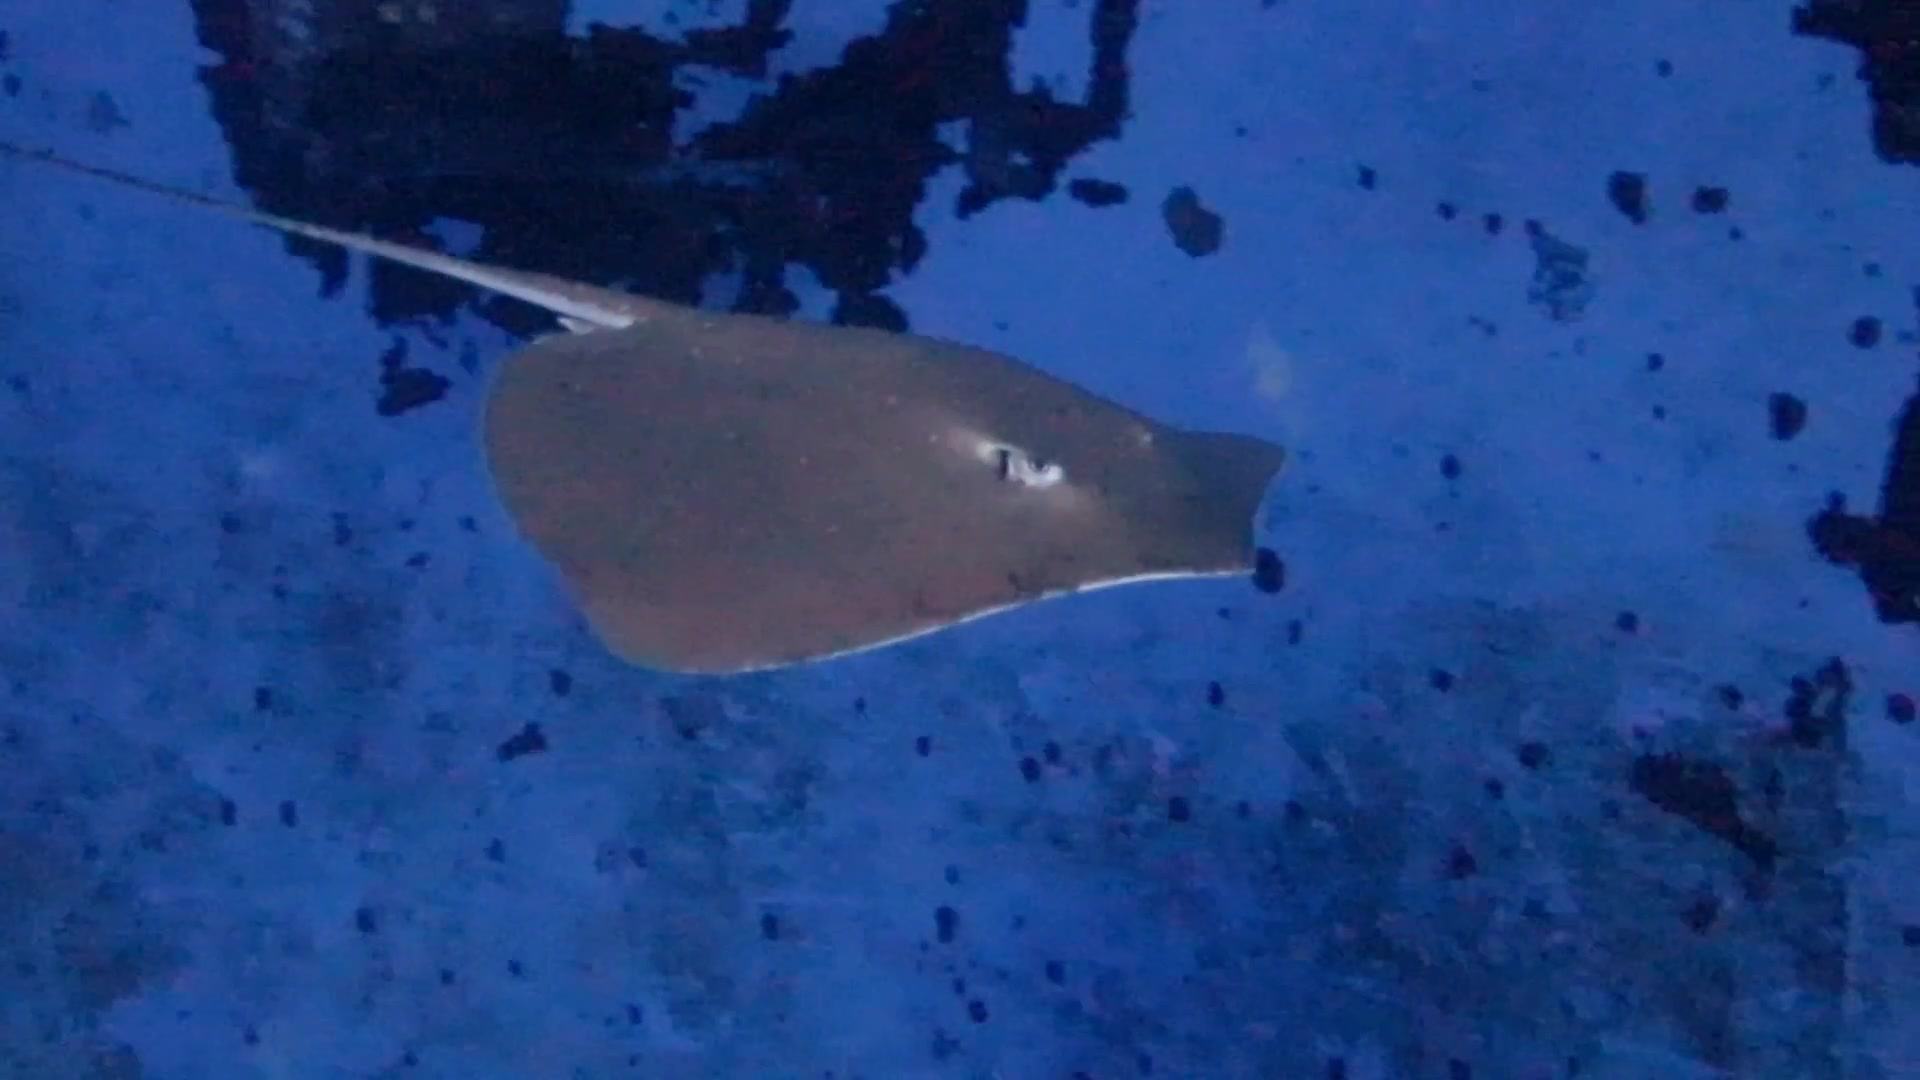Himantura gerrardi: (61, 104, 1408, 727)
